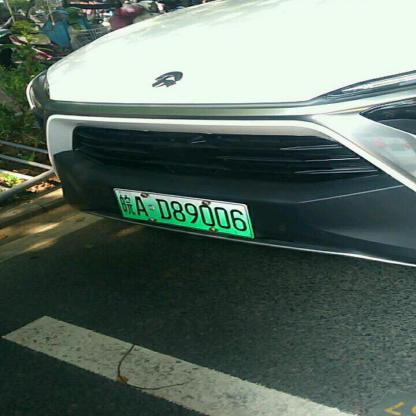lp: (114, 188, 253, 236)
